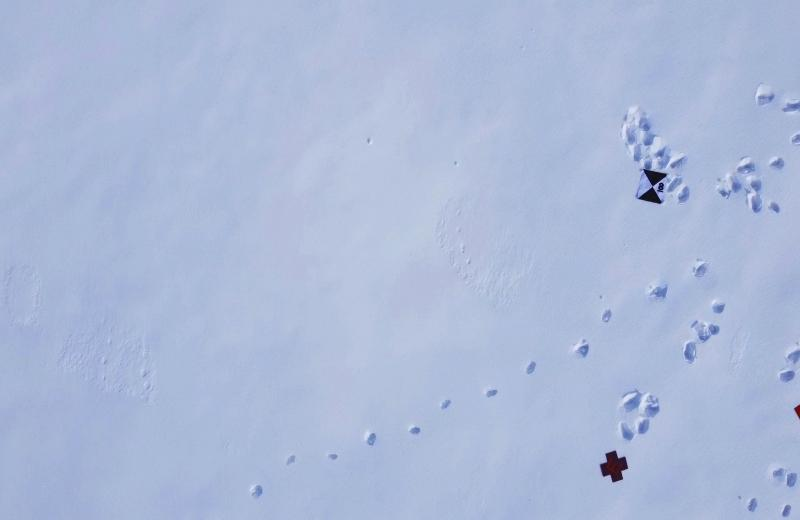Cross: (595, 447, 631, 486)
